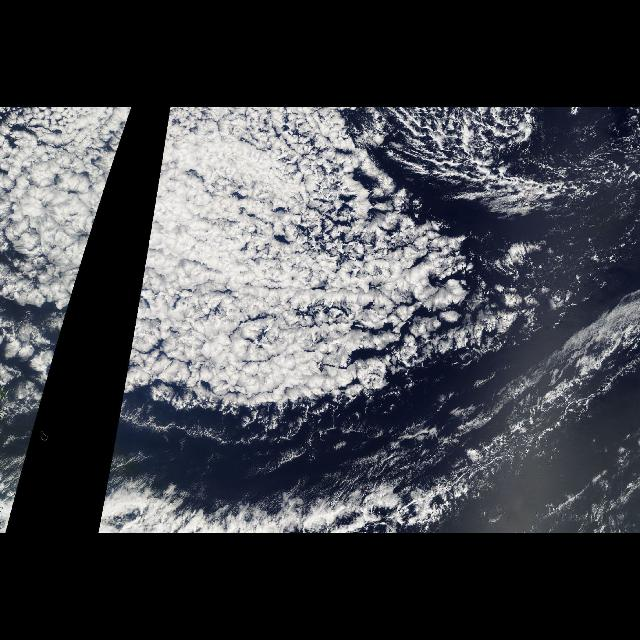Fish: (374, 108, 600, 218)
Flower: (116, 113, 484, 430), (7, 113, 132, 430)
Sugar: (535, 114, 639, 212)
